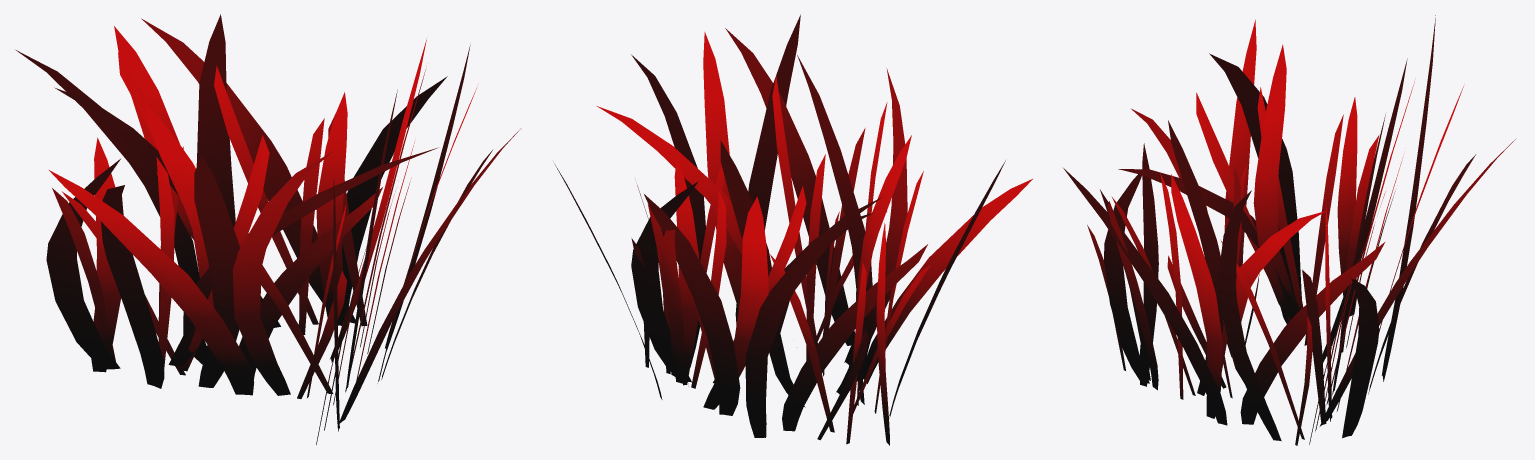
Rendered from SM_detail_grassM_B.FBX.
3 renders of one model, left to right at view 1: azimuth 30°, elevation 25°; view 2: azimuth 150°, elevation 25°; view 3: azimuth 270°, elevation 25°, orthographic. The views are drawn at different scales.
Visible parts, largest first — view 1: SM_detail_grassM_C; view 2: SM_detail_grassM_C; view 3: SM_detail_grassM_C.
Boxes of the visible parts, x1,y1,x2,y2 form: SM_detail_grassM_C: (16, 14, 521, 444); SM_detail_grassM_C: (554, 14, 1032, 445); SM_detail_grassM_C: (1063, 15, 1516, 445).
Bounding box in the file's own units: 153 × 106 × 143.
